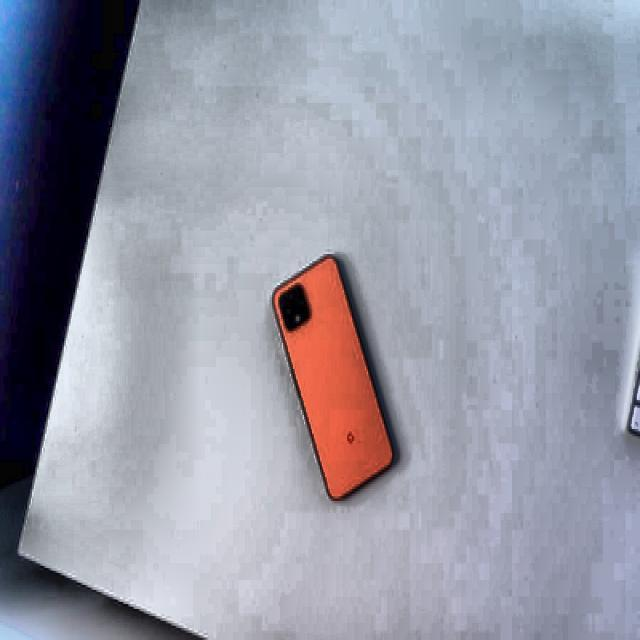Phone: (269, 252, 402, 507)
